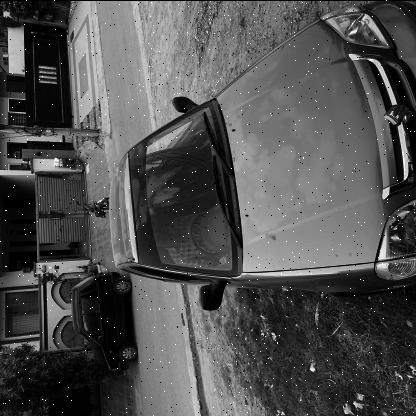no_seatbelt: (156, 219, 199, 259)
